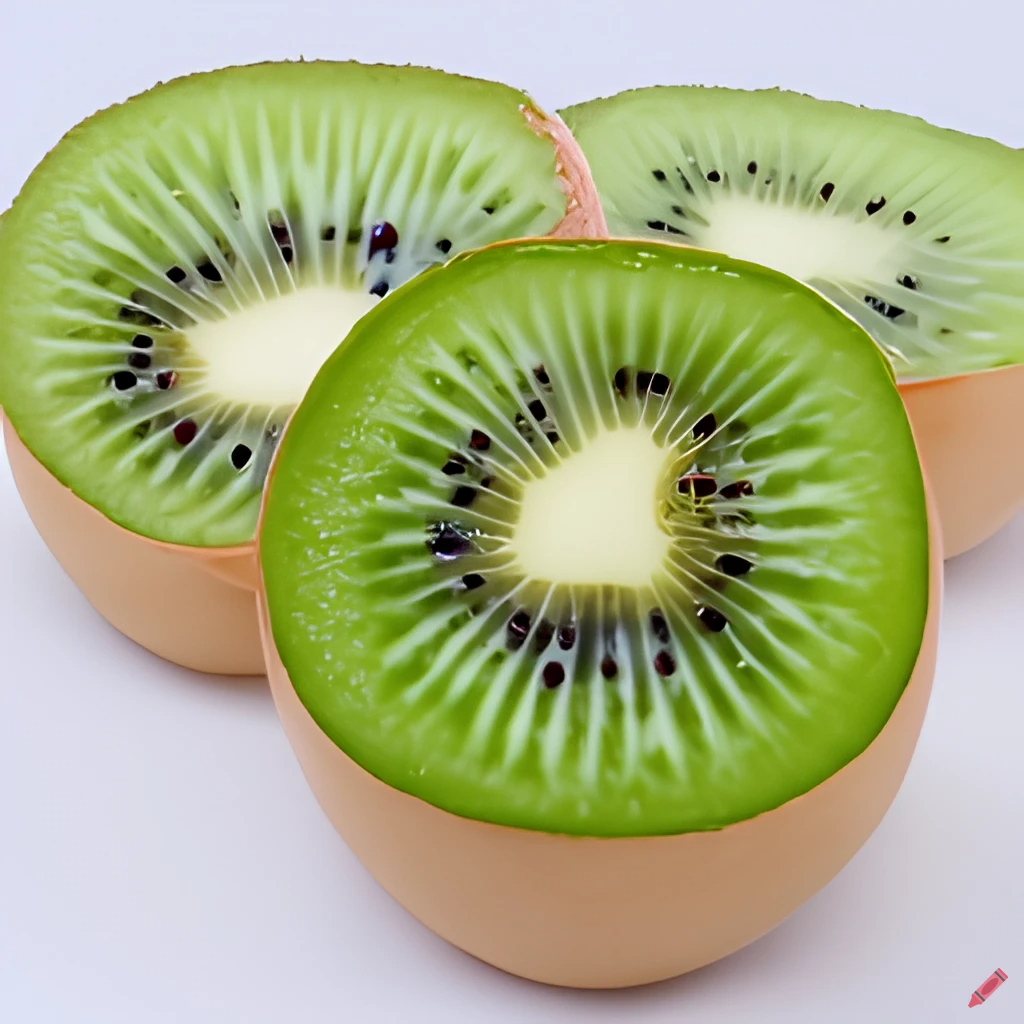Kiwi: (239, 221, 952, 981)
